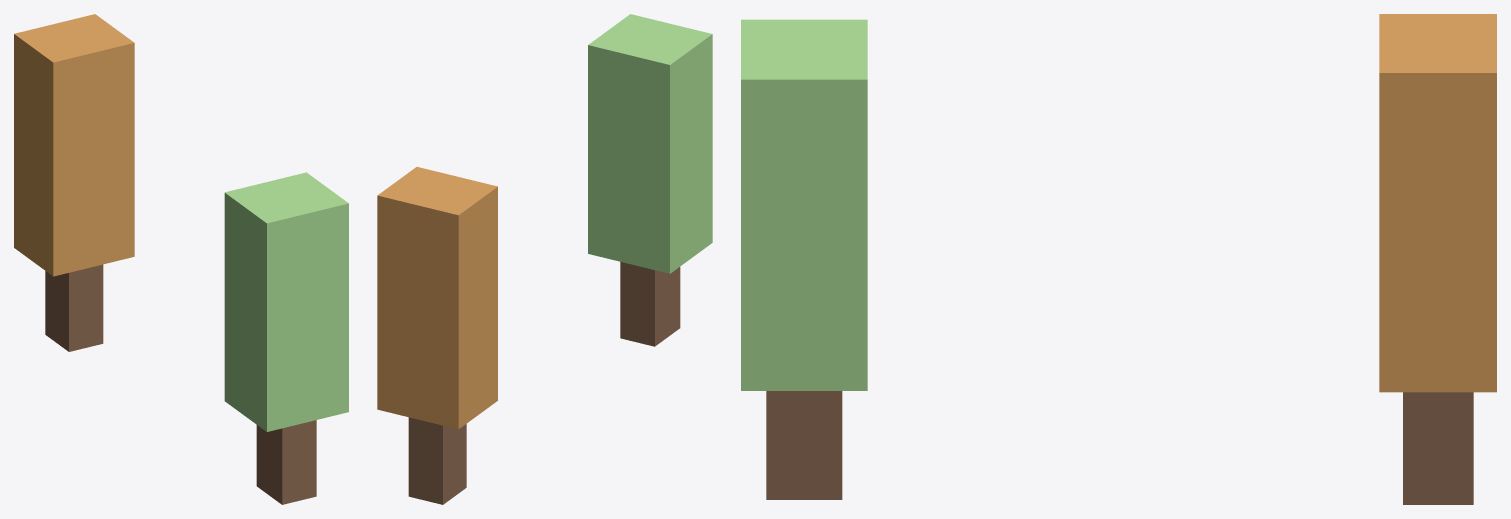
File: Bäume.fbx
3 renders of one model, left to right at view 1: azimuth 30°, elevation 25°; view 2: azimuth 150°, elevation 25°; view 3: azimuth 270°, elevation 25°, orthographic. The views are drawn at different scales.
Parts seen in each view (by area): view 1: Cube.012, Cube.014; view 2: Cube.012, Cube.014; view 3: Cube.012, Cube.014.
Part boxes in pixels (x1,y1,x2,y2): Cube.012: (224, 172, 348, 504); Cube.014: (14, 14, 134, 351); Cube.012: (588, 14, 712, 346); Cube.014: (377, 167, 497, 504); Cube.012: (741, 19, 867, 499); Cube.014: (1379, 14, 1496, 504).
Bounding box in the file's own units: 67.48 × 236 × 361.
